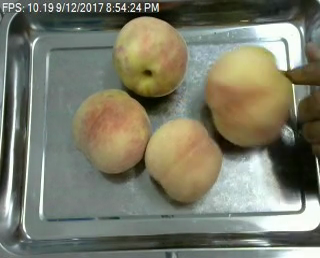Peach: (205, 46, 294, 147), (143, 118, 224, 202), (72, 87, 150, 174), (112, 16, 189, 97)
